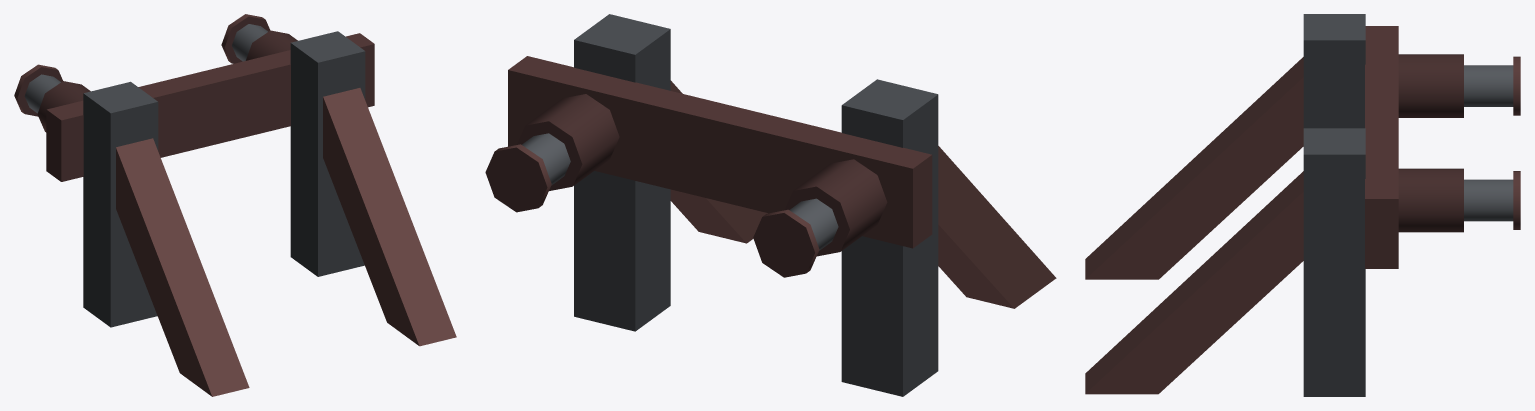
File: Train_Stopper_01.fbx
3 views of the same model, side by side, from view 1: azimuth 30°, elevation 25°; view 2: azimuth 150°, elevation 25°; view 3: azimuth 270°, elevation 25° (orthographic). The views are drawn at different scales.
Visible parts, largest first — view 1: Train_Stopper_01; view 2: Train_Stopper_01; view 3: Train_Stopper_01.
Boxes of the visible parts, x1=… form: Train_Stopper_01: x1=14, y1=14, x2=456, y2=396; Train_Stopper_01: x1=485, y1=14, x2=1056, y2=396; Train_Stopper_01: x1=1085, y1=14, x2=1520, y2=396.
Bounding box in the file's own units: 226 × 147 × 240.
1 material, 1 textured.
